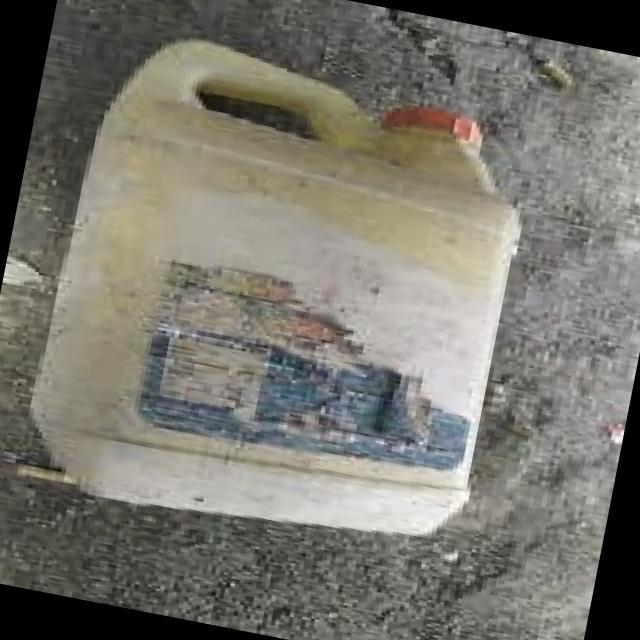HDPE Plastic: (22, 32, 524, 540)
